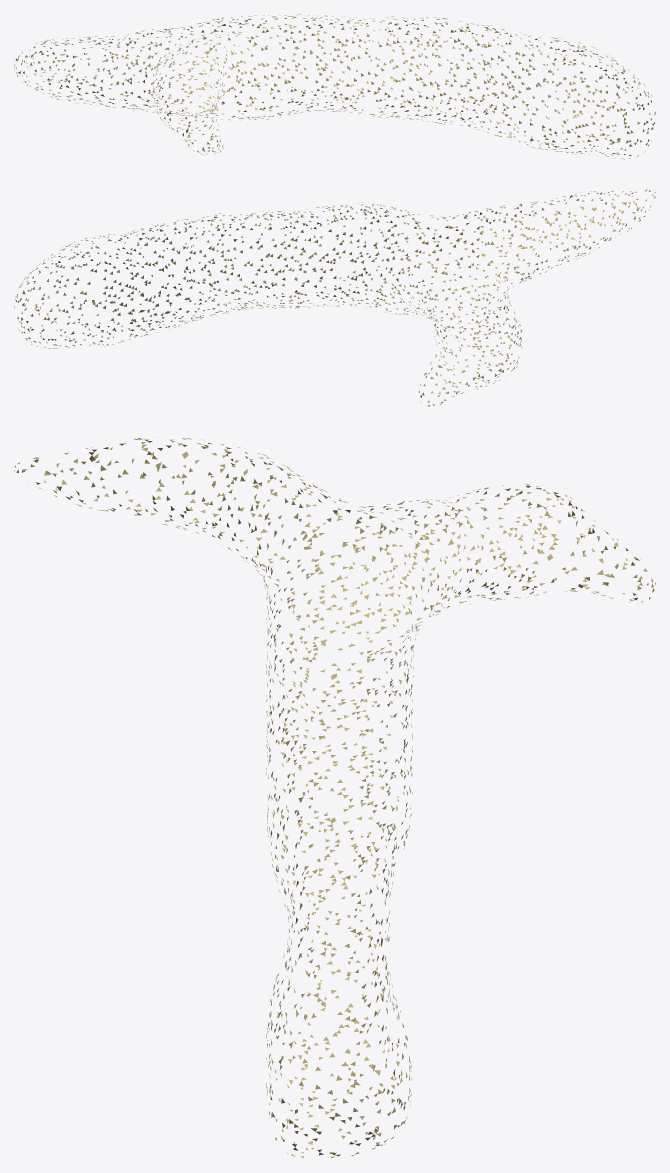
Rendered from morph_008.glb.
3 views of the same model, one above another, from view 1: azimuth 30°, elevation 25°; view 2: azimuth 150°, elevation 25°; view 3: azimuth 270°, elevation 25° (orthographic). The views are drawn at different scales.
Bounding box in the file's own units: 121 × 47.57 × 77.84.
